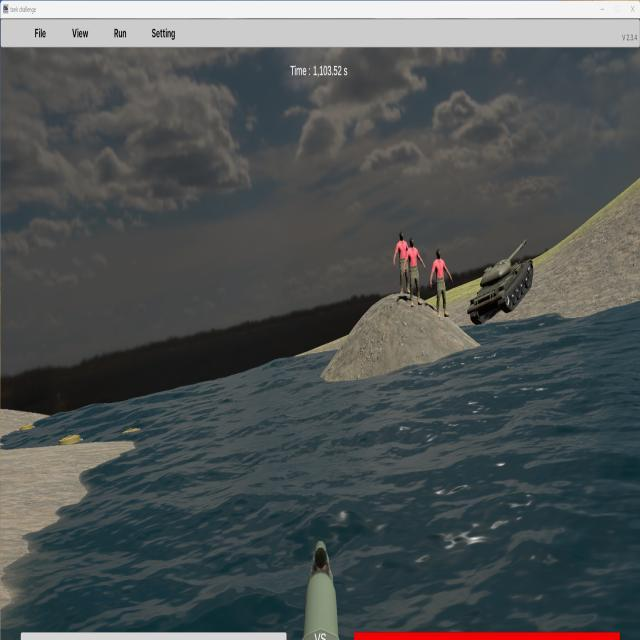Human: (430, 248, 452, 318), (403, 237, 425, 306), (394, 231, 414, 295)
Tank: (468, 239, 533, 325)
